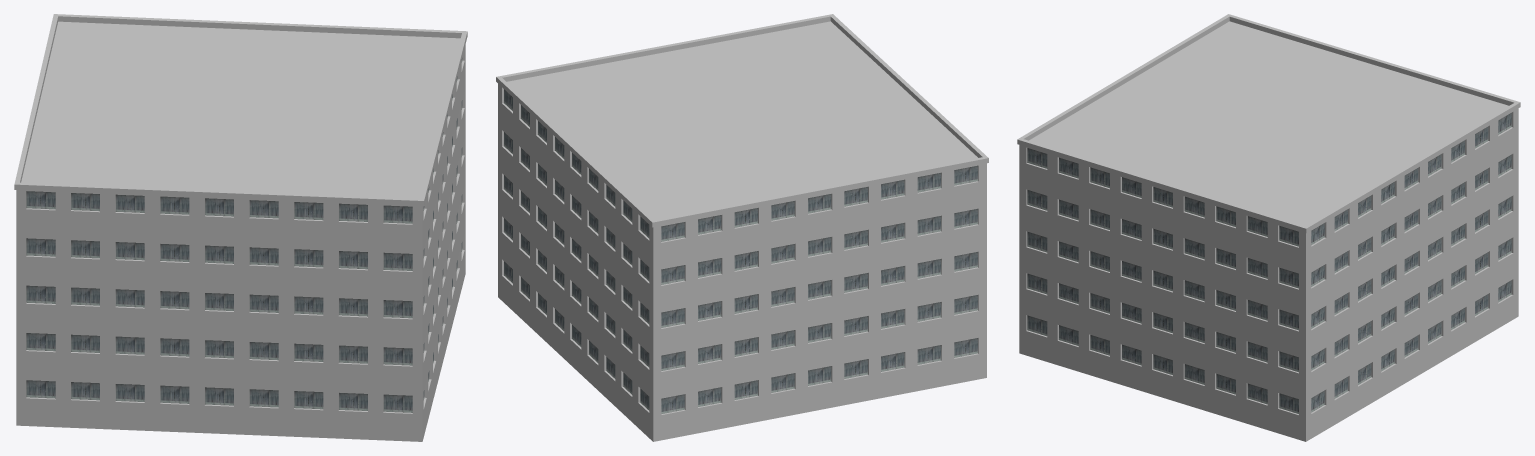
File: Building_101.fbx
The picture shows the model from 3 angles, left to right: view 1: azimuth 30°, elevation 25°; view 2: azimuth 150°, elevation 25°; view 3: azimuth 270°, elevation 25°; orthographic projection. The views are drawn at different scales.
Parts seen in each view (by area): view 1: Brick08, Roofpanels, Window06EmissionOff, Window06EmissionOn; view 2: Brick08, Roofpanels, Window06EmissionOff, Window06EmissionOn; view 3: Brick08, Roofpanels, Window06EmissionOff, Window06EmissionOn.
Part boxes in pixels (bbox=[...]): Brick08: bbox=[14, 14, 467, 441]; Roofpanels: bbox=[21, 21, 460, 198]; Window06EmissionOff: bbox=[26, 58, 462, 412]; Window06EmissionOn: bbox=[71, 165, 457, 400]; Brick08: bbox=[496, 14, 988, 441]; Roofpanels: bbox=[507, 21, 977, 219]; Window06EmissionOff: bbox=[504, 89, 977, 413]; Window06EmissionOn: bbox=[538, 164, 977, 392]; Brick08: bbox=[1017, 14, 1520, 441]; Roofpanels: bbox=[1029, 21, 1508, 225]; Window06EmissionOff: bbox=[1027, 113, 1511, 413]; Window06EmissionOn: bbox=[1027, 190, 1511, 384].
Bounding box in the file's own units: 2443 × 1135 × 2420.
